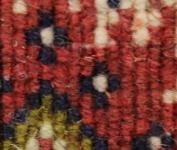Knot: (91, 62, 107, 75), (64, 1, 81, 13), (10, 1, 27, 13), (38, 47, 53, 60), (78, 95, 92, 108), (78, 64, 93, 76), (38, 16, 53, 28), (24, 115, 41, 125), (23, 138, 40, 148), (105, 108, 119, 120), (132, 47, 146, 58), (91, 125, 105, 136), (91, 97, 105, 108), (51, 99, 66, 109), (25, 81, 40, 91), (107, 13, 119, 25), (80, 124, 92, 136), (80, 81, 92, 93), (39, 82, 52, 93), (37, 127, 50, 138), (28, 95, 41, 106), (146, 47, 159, 58), (65, 111, 79, 121), (12, 124, 26, 134), (131, 139, 146, 148), (52, 122, 64, 133), (1, 93, 13, 104), (53, 17, 65, 28), (28, 32, 40, 43), (91, 109, 103, 120), (132, 120, 145, 130), (105, 127, 119, 136), (160, 136, 171, 147), (160, 47, 171, 58), (107, 40, 118, 51), (53, 112, 65, 122), (41, 94, 53, 104), (12, 81, 24, 91), (147, 17, 159, 27), (133, 60, 145, 70), (1, 52, 13, 62), (159, 108, 171, 118), (160, 7, 171, 17), (81, 112, 92, 122), (13, 52, 25, 61), (81, 138, 91, 148), (108, 25, 118, 35), (148, 60, 158, 70), (26, 127, 37, 136), (53, 37, 64, 46), (108, 82, 119, 91), (53, 85, 64, 94), (54, 28, 65, 37), (40, 70, 51, 79), (82, 47, 93, 56), (64, 142, 80, 148), (40, 139, 50, 148), (94, 49, 104, 58), (163, 27, 172, 37), (150, 7, 159, 17), (51, 139, 61, 148), (2, 82, 11, 91), (17, 62, 26, 71), (120, 73, 129, 82), (17, 71, 26, 79), (119, 142, 131, 148), (151, 111, 159, 120), (96, 142, 107, 148), (107, 142, 117, 148)
